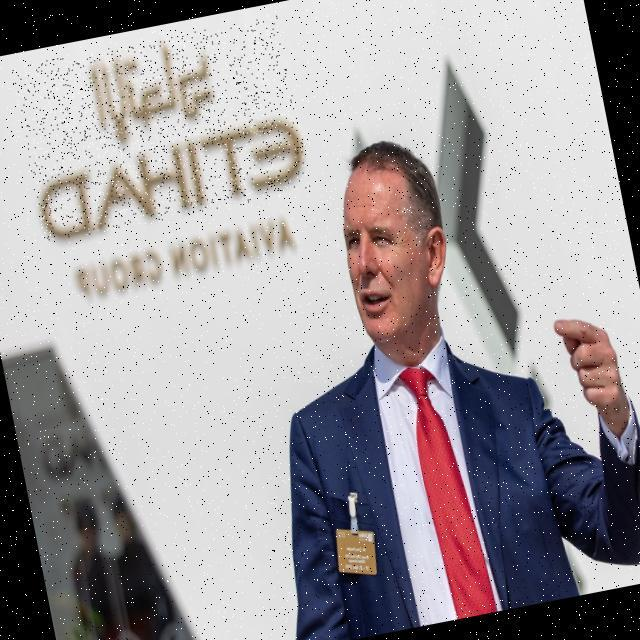Etihad Airways: (10, 16, 312, 244)
